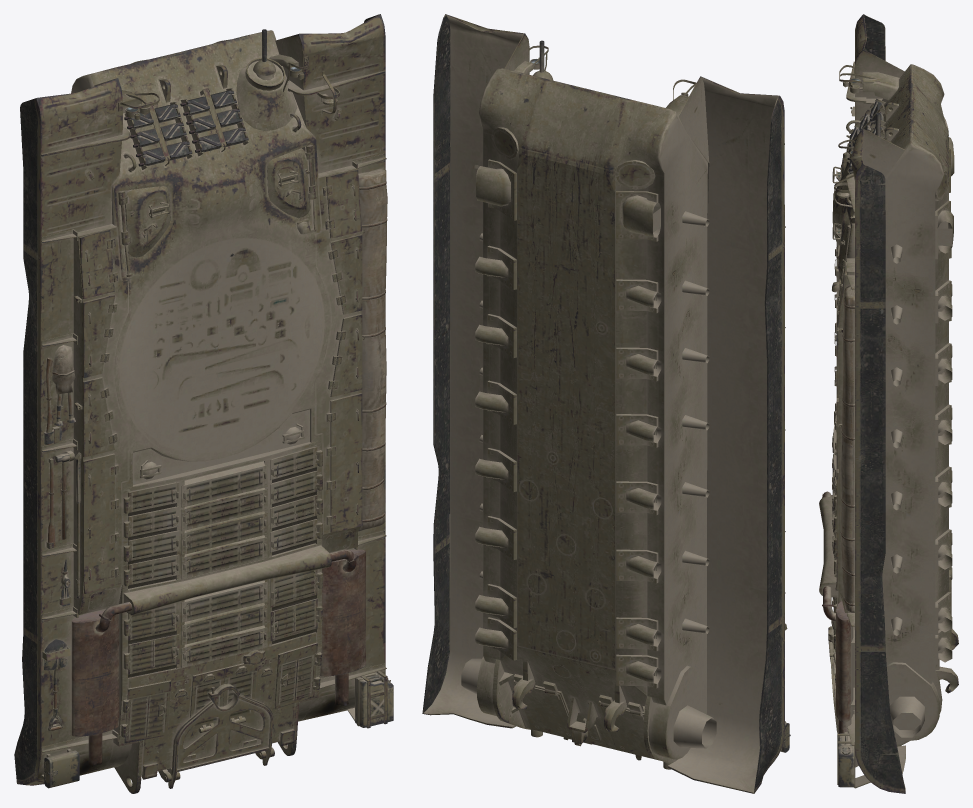
Rendered from Hull.glb.
3 renders of one model, left to right at view 1: azimuth 30°, elevation 25°; view 2: azimuth 150°, elevation 25°; view 3: azimuth 270°, elevation 25°, orthographic. The views are drawn at different scales.
Visible parts, largest first — view 1: set_0_group_0; view 2: set_0_group_0; view 3: set_0_group_0.
Part boxes in pixels (bbox=[...]): set_0_group_0: bbox=[14, 14, 393, 793]; set_0_group_0: bbox=[422, 14, 790, 793]; set_0_group_0: bbox=[819, 14, 958, 793].
Size of the model in its own units: 3.85 by 7.6 by 1.5.
1 material, 1 textured.
